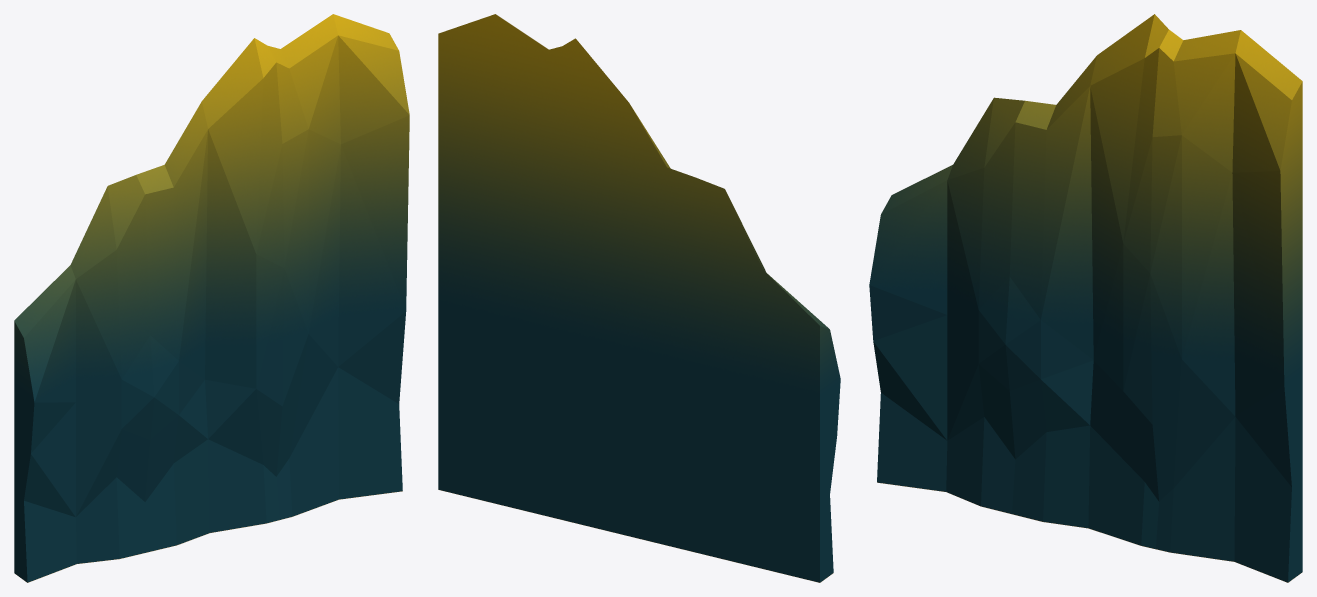
Rendered from Mod_Wall_ConnectL.fbx.
3 renders of one model, left to right at view 1: azimuth 30°, elevation 25°; view 2: azimuth 150°, elevation 25°; view 3: azimuth 330°, elevation 25°, orthographic. The views are drawn at different scales.
Visible parts, largest first — view 1: MOD_Wall_ConnectL; view 2: MOD_Wall_ConnectL; view 3: MOD_Wall_ConnectL.
Part boxes in pixels (box(x1,y1,x2,y2)): MOD_Wall_ConnectL: box(14, 14, 409, 582); MOD_Wall_ConnectL: box(438, 14, 840, 582); MOD_Wall_ConnectL: box(869, 14, 1302, 582).
Size of the model in its own units: 16.23 by 19.89 by 1.52.
1 material, 1 textured.
